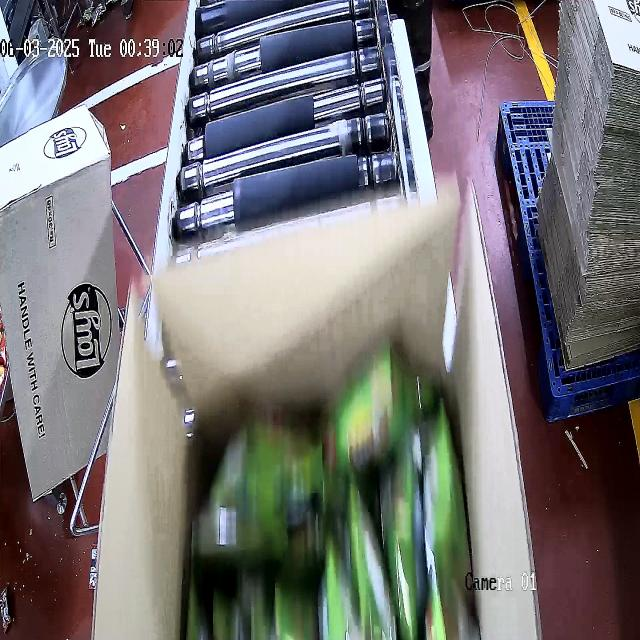YOGURT_HERB: (187, 376, 451, 640)
